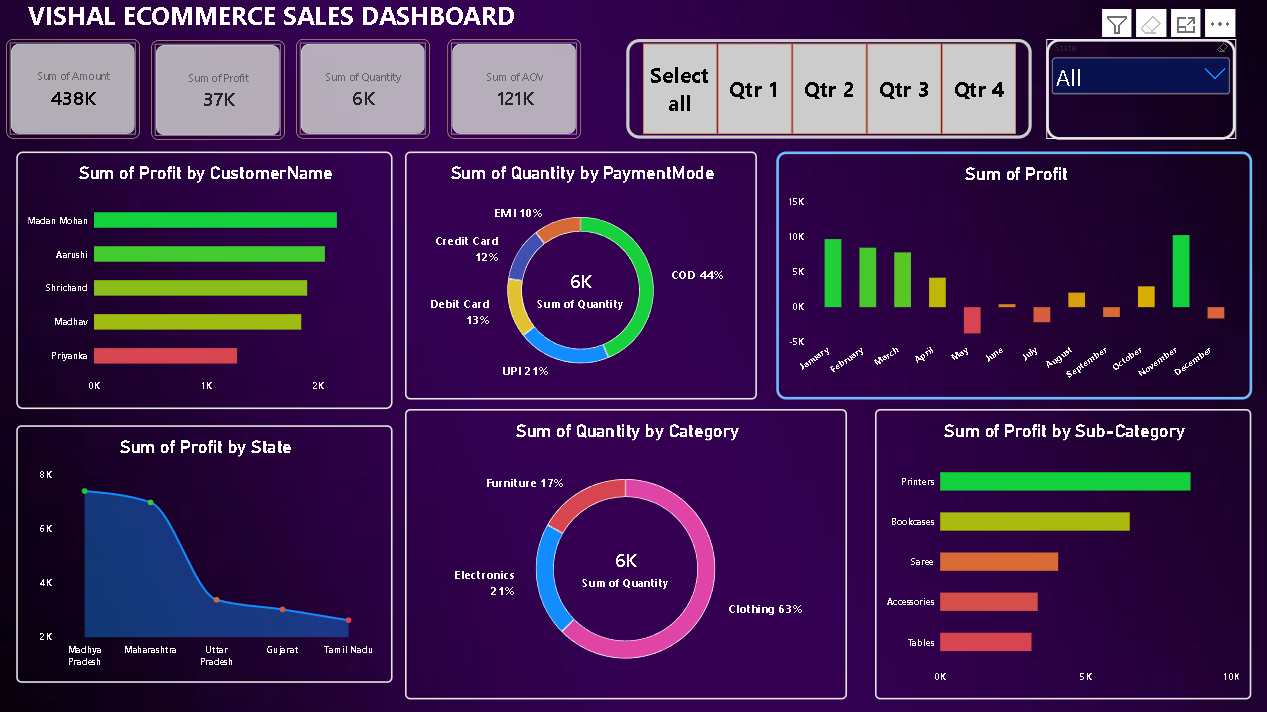

What the dashboard file says about the page in this screenshot:
{"tool":"powerbi","page":{"name":"Page 1","canvas":[1920,1080],"ordinal":0},"visuals":[{"type":"textbox","box":[10.3,0,802.7,74.1],"z":0},{"type":"columnChart","title":"Sum of Profit ","fields":{"Category":["Orders.Order Date.Variation.Date Hierarchy.Month"],"Y":["Sum(Details.Profit)"]},"box":[1171.2,230.5,718.4,374.6],"z":1000},{"type":"barChart","fields":{"Category":["Details.Sub-Category"],"Y":["Sum(Details.Profit)"]},"box":[1321.4,619.6,568.1,438.4],"z":2000},{"type":"donutChart","fields":{"Category":["Details.Category"],"Y":["Sum(Details.Quantity)"]},"box":[611.3,619.6,666.9,438.4],"z":3000},{"type":"donutChart","fields":{"Category":["Details.PaymentMode"],"Y":["Sum(Details.Quantity)"]},"box":[611.3,230.5,531,374.6],"z":4000},{"type":"cardVisual","fields":{"Data":["Sum(Details.Amount)"]},"box":[10.3,59.7,201.7,150.3],"z":5000},{"type":"cardVisual","fields":{"Data":["Sum(Details.Profit)"]},"box":[228.5,61.7,201.7,150.3],"z":6000},{"type":"cardVisual","fields":{"Data":["Sum(Details.Quantity)"]},"box":[446.7,59.7,201.7,150.3],"z":7000},{"type":"cardVisual","fields":{"Data":["Sum(Details.AOV)"]},"box":[675.1,59.7,201.7,150.3],"z":8000},{"type":"barChart","fields":{"Category":["Orders.CustomerName"],"Y":["Sum(Details.Profit)"]},"box":[24.7,230.5,568.1,389],"z":9000},{"type":"stackedAreaChart","fields":{"Category":["Orders.State"],"Y":["Sum(Details.Profit)"]},"box":[24.7,644.3,568.1,389],"z":10000},{"type":"slicer","fields":{"Values":["Orders.Order Date.Variation.Date Hierarchy.Quarter"]},"box":[944.6,59.7,611.7,150.2],"z":11000},{"type":"slicer","fields":{"Values":["Orders.State"]},"box":[1579.8,59.7,285.9,152],"z":12000}]}

Visuals, with their boxes in screenshot pixels (x1, y1, x2, y2), scaled from the page's 1920x1080 canvas onto the 1267x712 screenshot:
textbox: 7/0/536/49
"Sum of Profit " columnChart: 773/152/1247/399
barChart - Details.Sub-Category x Sum(Details.Profit): 872/408/1247/697
donutChart - Details.Category x Sum(Details.Quantity): 403/408/843/697
donutChart - Details.PaymentMode x Sum(Details.Quantity): 403/152/754/399
cardVisual - Sum(Details.Amount): 7/39/140/138
cardVisual - Sum(Details.Profit): 151/41/284/140
cardVisual - Sum(Details.Quantity): 295/39/428/138
cardVisual - Sum(Details.AOV): 445/39/579/138
barChart - Orders.CustomerName x Sum(Details.Profit): 16/152/391/408
stackedAreaChart - Orders.State x Sum(Details.Profit): 16/425/391/681
slicer - Orders.Order Date.Variation.Date Hierarchy.Quarter: 623/39/1027/138
slicer - Orders.State: 1043/39/1231/140
